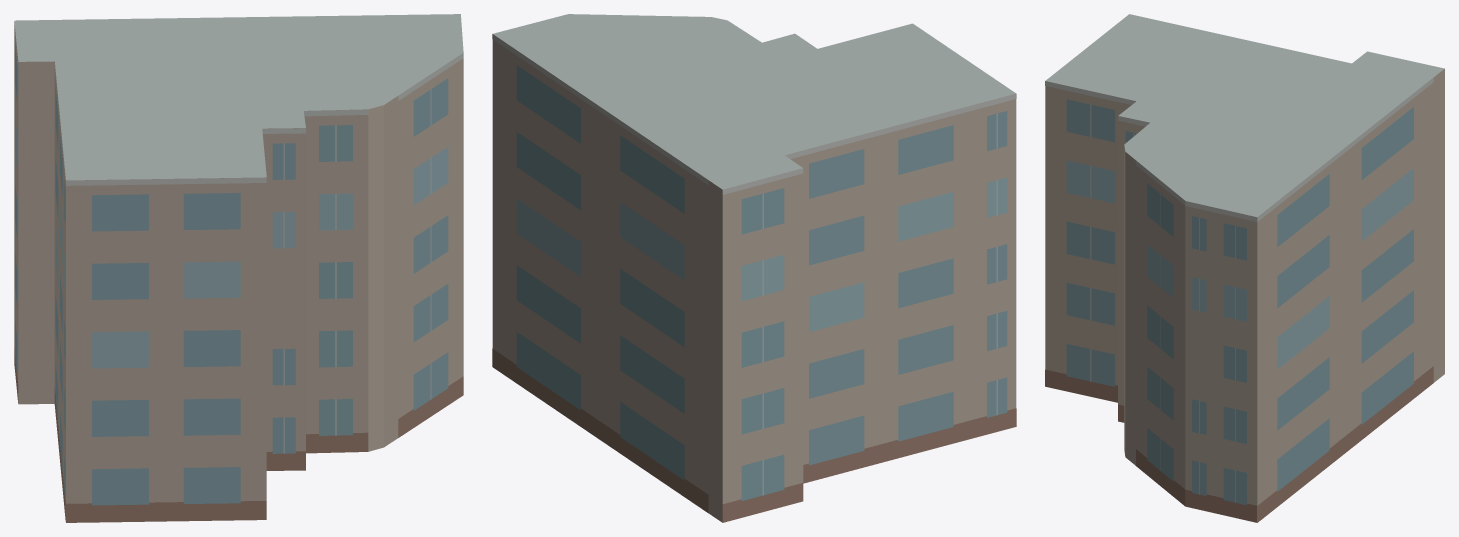
File: survey-upis-32585284.glb
3 renders of one model, left to right at view 1: azimuth 30°, elevation 25°; view 2: azimuth 150°, elevation 25°; view 3: azimuth 270°, elevation 25°, orthographic. The views are drawn at different scales.
Visible parts, largest first — view 1: survey-upis-32585284.tmp; view 2: survey-upis-32585284.tmp; view 3: survey-upis-32585284.tmp.
Boxes of the visible parts, <box> form: survey-upis-32585284.tmp: <box>14,14,463,522</box>; survey-upis-32585284.tmp: <box>492,14,1016,522</box>; survey-upis-32585284.tmp: <box>1045,14,1444,522</box>.
Bounding box in the file's own units: 21.76 × 15.25 × 18.08.
